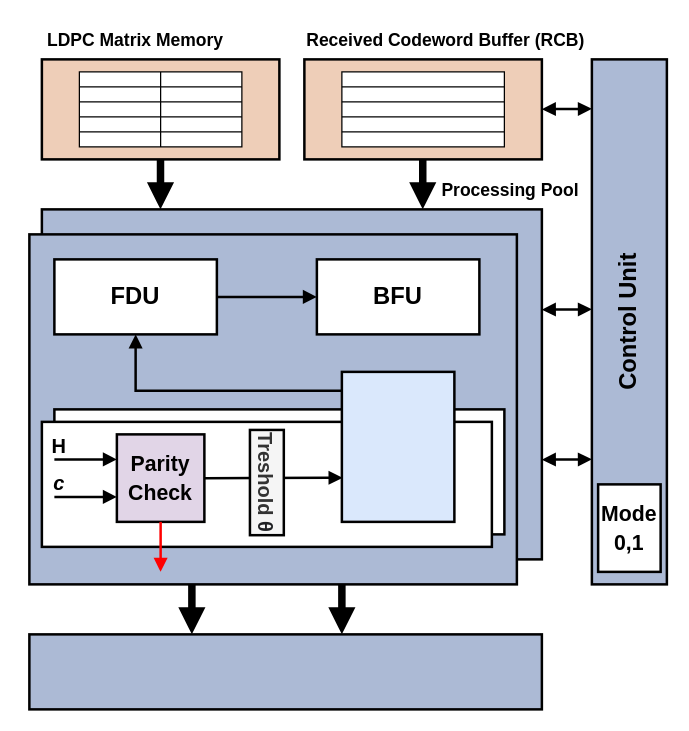
Some shapes in this 689 by 731 pixel diagram are drawn without their labels. Here are the shapes that lost their labels. From the top down, the box of each, then its label:
(340, 370, 455, 522): Objective Function
(28, 632, 542, 710): Output Buffer
